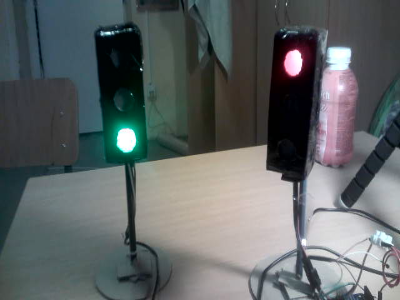trafficlight_green: (102, 27, 146, 158)
trafficlight_red: (266, 36, 319, 171)
